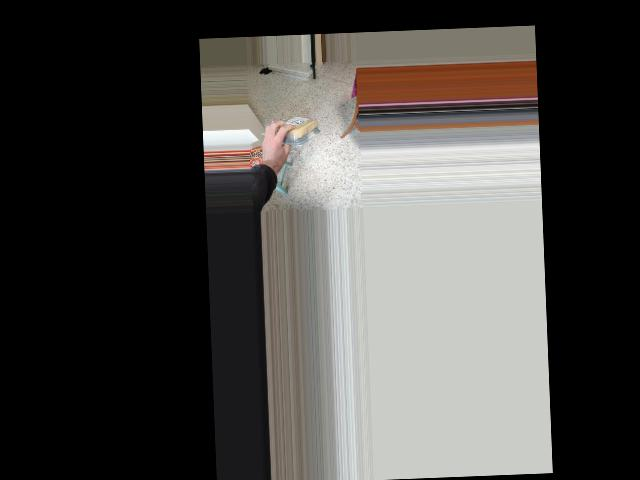cheese: (267, 112, 322, 147)
